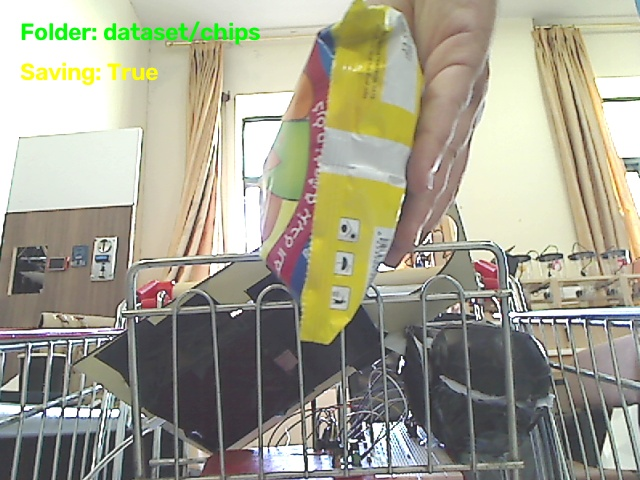chips: (261, 0, 422, 343)
